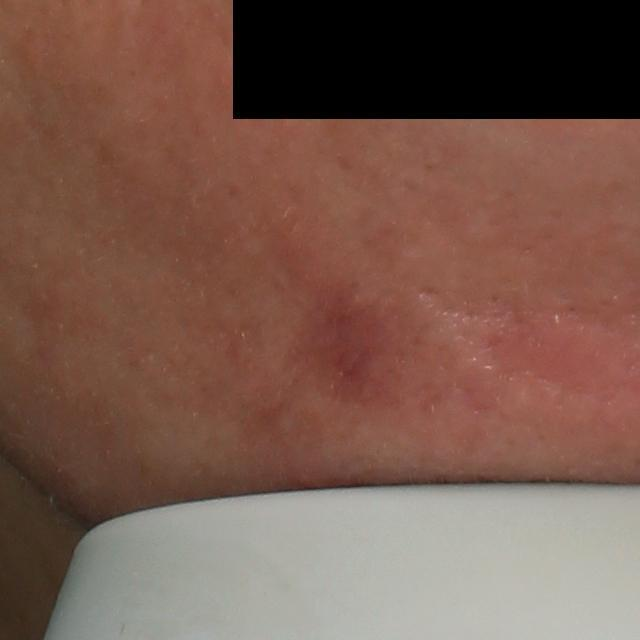atrophic_scar: (414, 282, 510, 331)
hypertrophic_scar: (409, 297, 495, 384)
